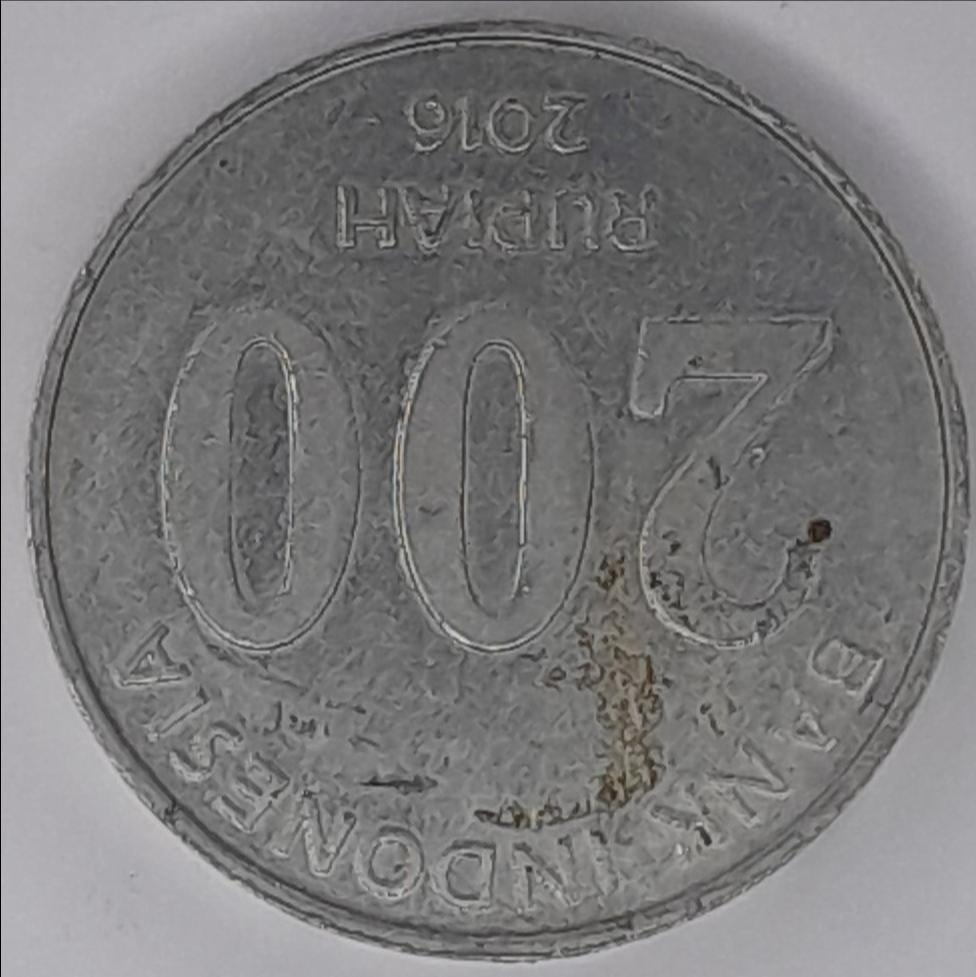coin_200_e2016: (0, 17, 976, 977)
